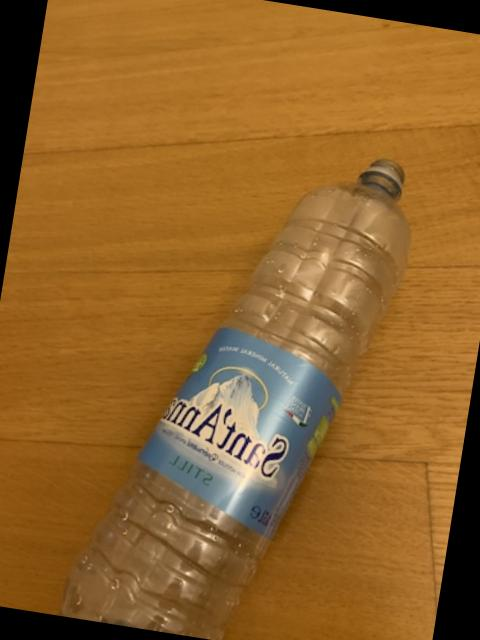plastic: (65, 158, 412, 640)
